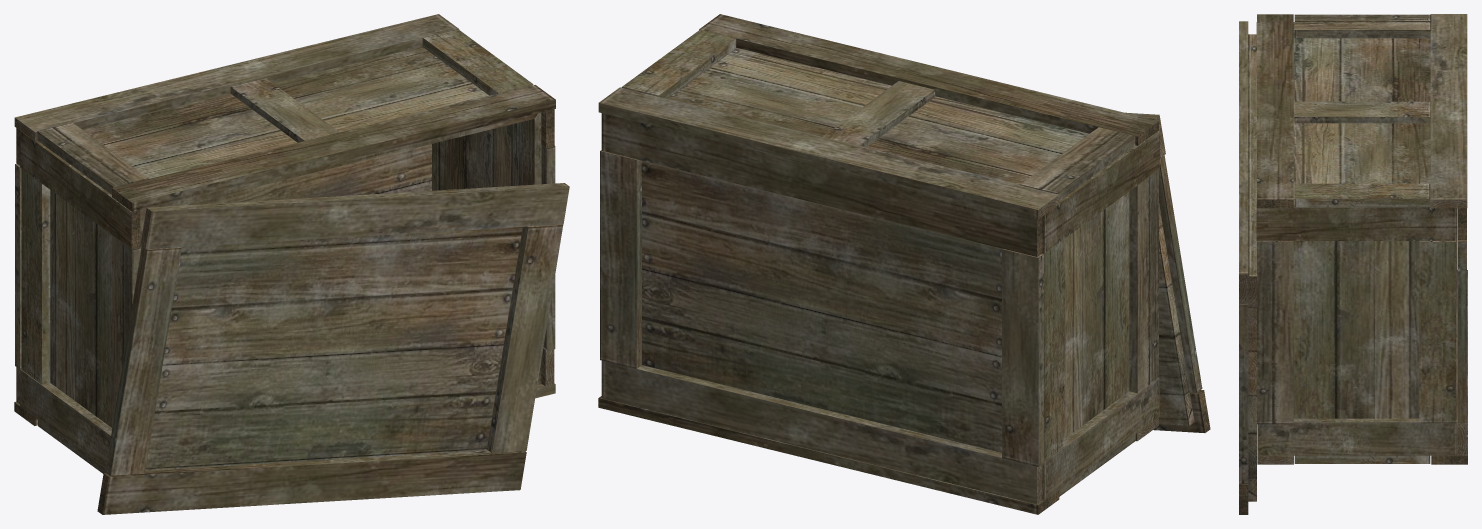
File: prop_crate_smallshipping_open1.glb
3 views of the same model, side by side, from view 1: azimuth 30°, elevation 25°; view 2: azimuth 150°, elevation 25°; view 3: azimuth 270°, elevation 25° (orthographic). The views are drawn at different scales.
Bounding box in the file's own units: 52.95 × 40.36 × 24.99.
Materials: 1 (1 with a texture image).
